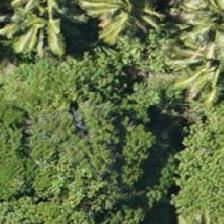coconut_tree: (175, 0, 223, 61)
